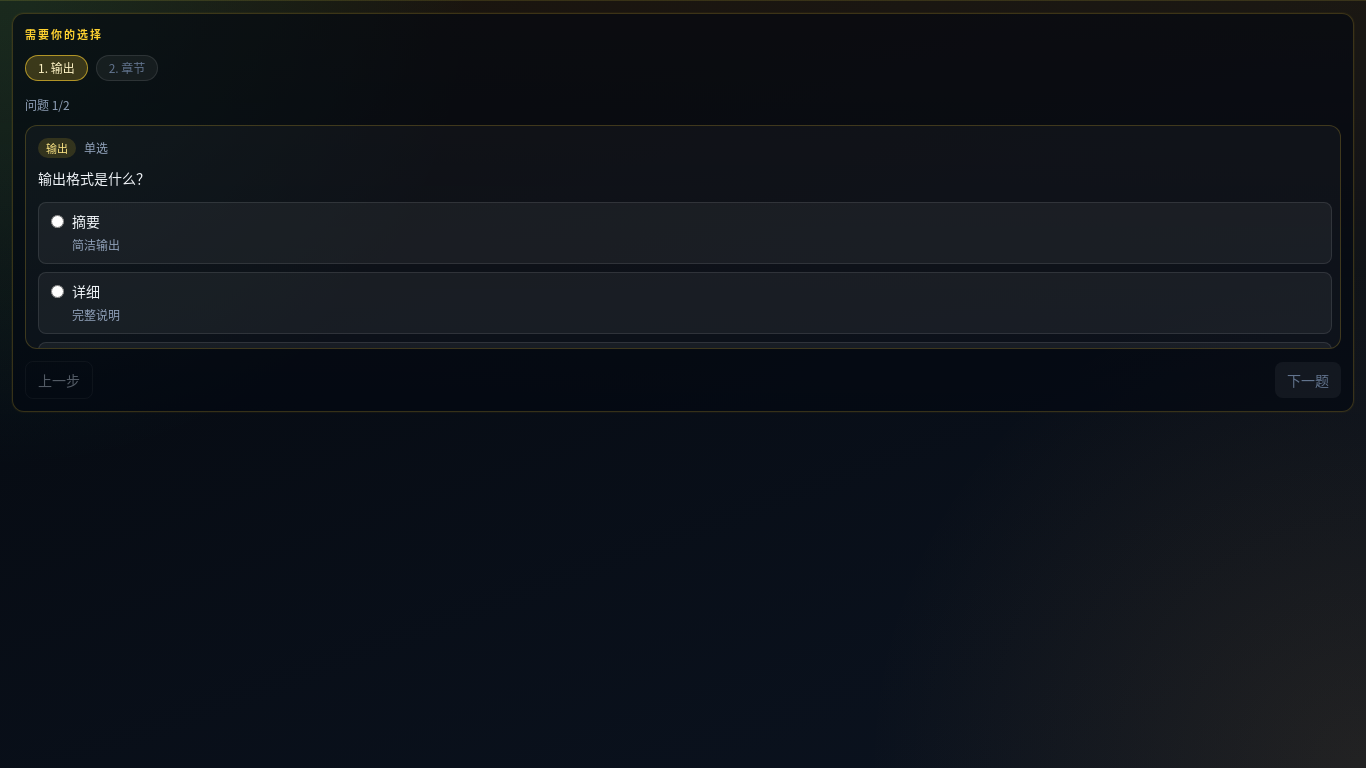
Test case: PendingQuestionWizard › keeps answers when navigating backward
This screenshot has width=1366, height=768.
Click the radio button labelled "详细": [58, 292] box [51,285,64,298]
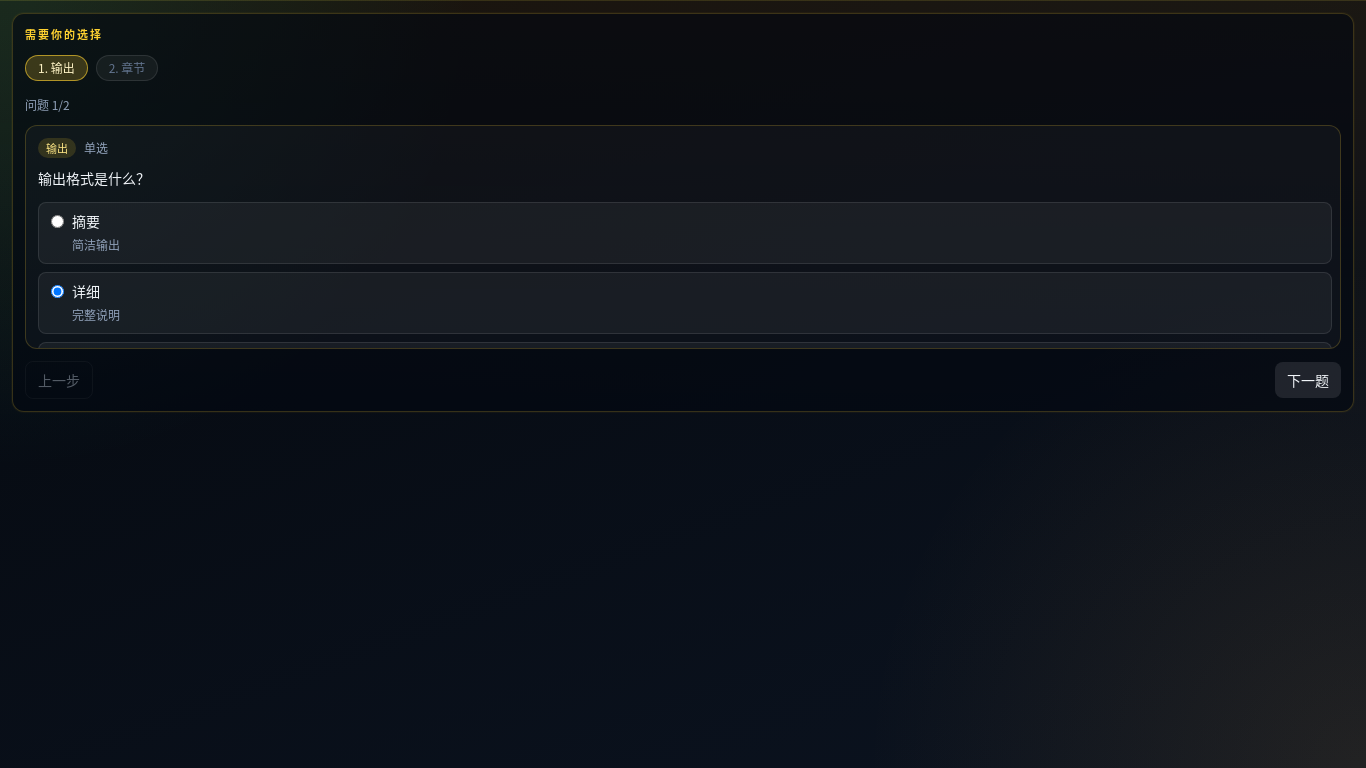
Click the button "下一题": [1308, 380] box [1275,362,1341,398]
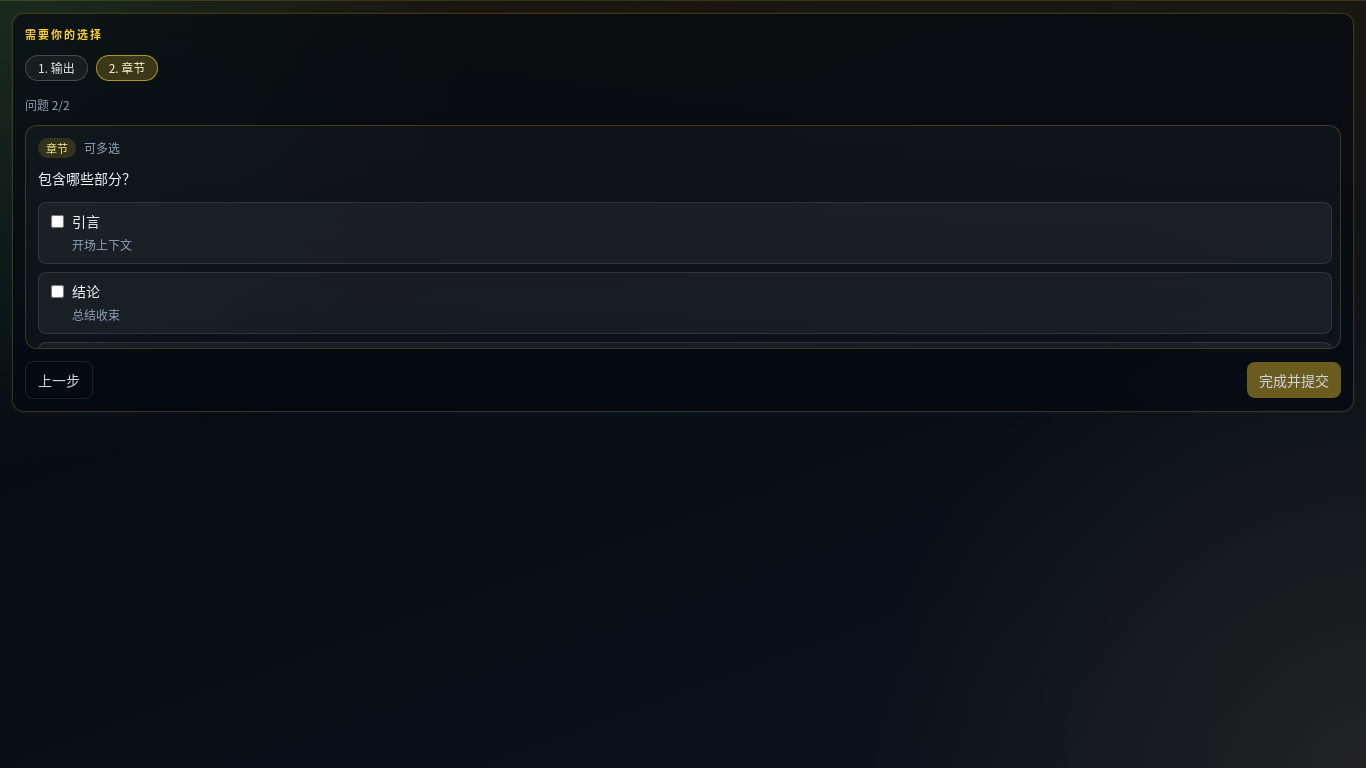
Click the button "上一步": [59, 380] box [25,361,93,399]
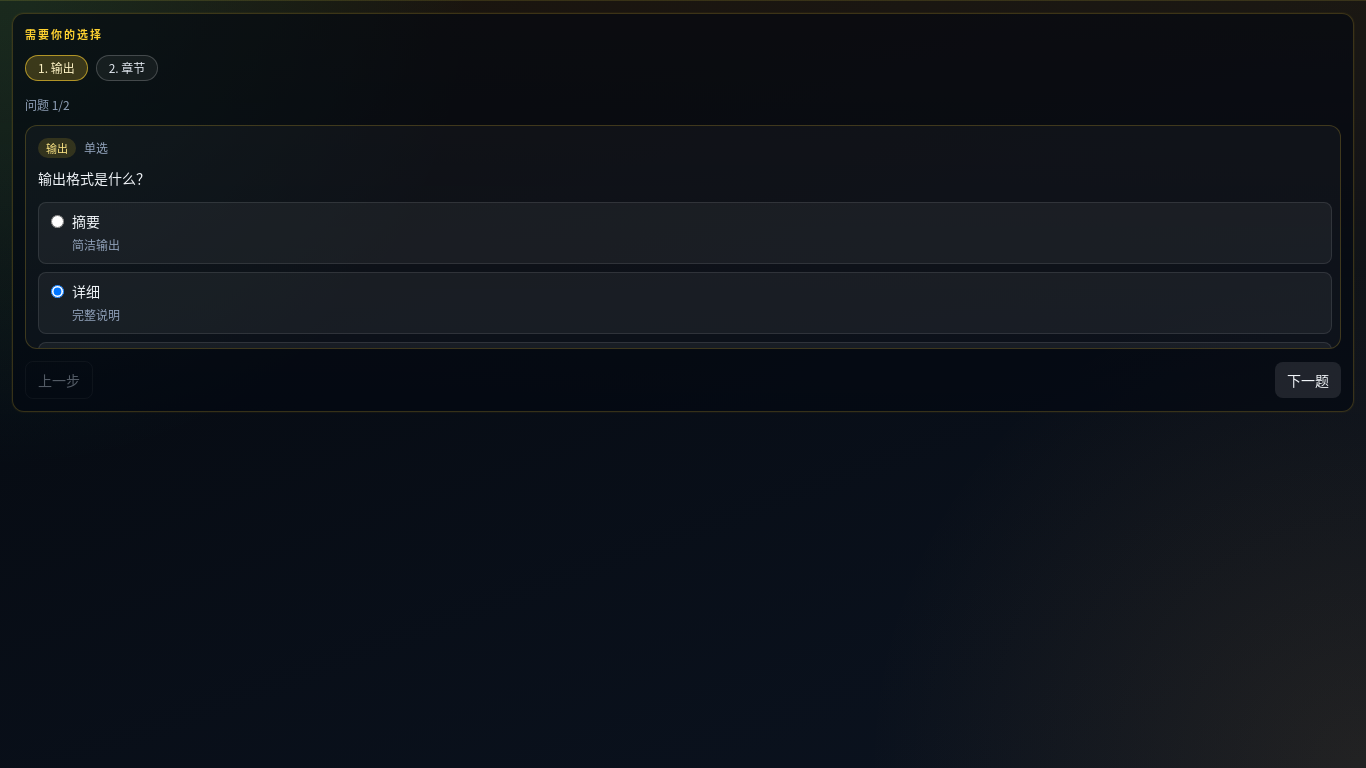
Check: the text "输出格式是什么？" is shown, box [38,168,150,188]
Check: the radio button labelled "详细" is checked, box [51,285,64,298]
